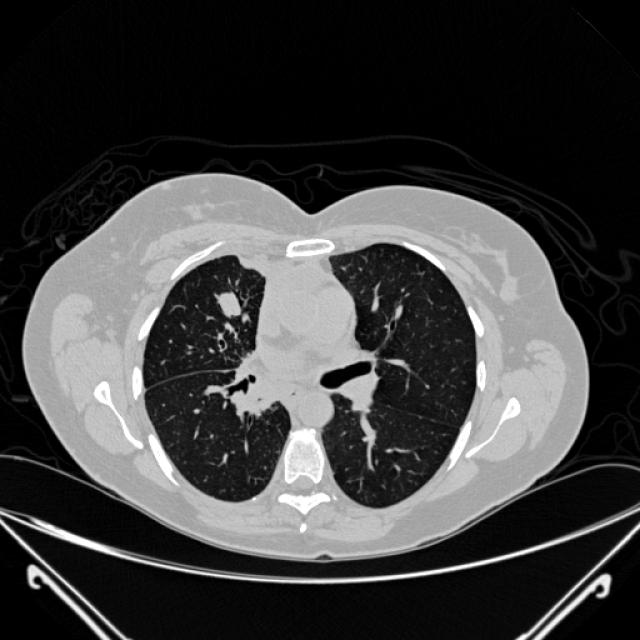nodule: (203, 278, 255, 330)
